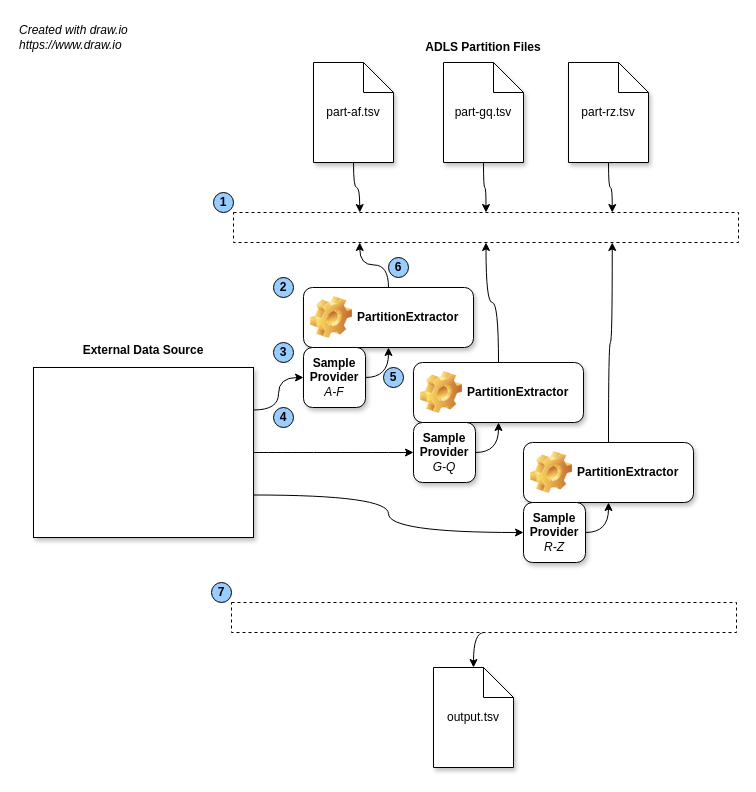
Some shapes in this 756 by 792 pixel diagram are drawn without their labels. Here are the shapes that lost their labels. From the top down, the centre of each, then its label:
[485,227]: @data = EXTRACT ... FROM "part-{*}.tsv" USING new CustomExtractor();
[144,453]: partition value1 value2 A 1 26 B 2 25 C 3 24 ... Y 25 2 Z 26 1
[483,617]: OUTPUT @data TO "output.tsv" USING Outputters.Tsv(quoting: false);
